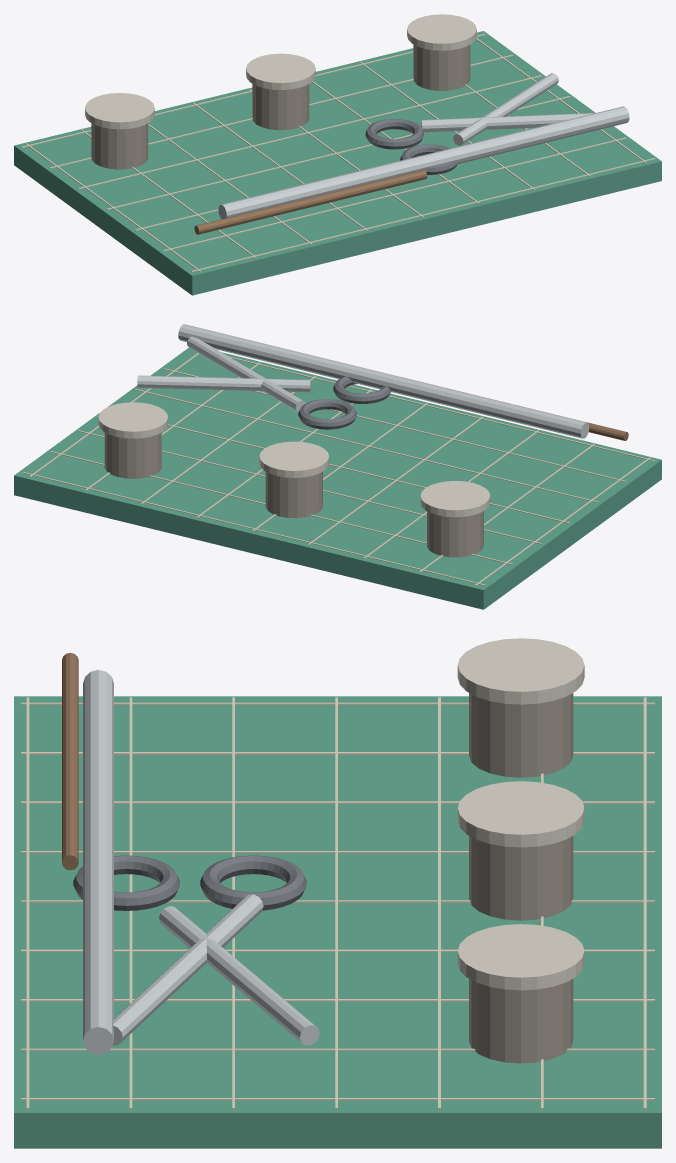
3 renders of one model, top to bottom at view 1: azimuth 30°, elevation 25°; view 2: azimuth 150°, elevation 25°; view 3: azimuth 270°, elevation 25°, orthographic. The views are drawn at different scales.
Parts seen in each view (by area): view 1: TH-017__000__Green cutting mat, TH-017__031__Stainless ruler, TH-017__030__Wood pencil, TH-017__023__Sewing thread reel, TH-017__017__Sewing thread reel, TH-017__020__Sewing thread reel, TH-017__024__Reel rim upper, TH-017__018__Reel rim upper, TH-017__021__Reel rim upper, TH-017__026__Scissor blade A, TH-017__027__Scissor blade B, TH-017__028__Scissor loop (+8 smaller); view 2: TH-017__000__Green cutting mat, TH-017__031__Stainless ruler, TH-017__023__Sewing thread reel, TH-017__020__Sewing thread reel, TH-017__017__Sewing thread reel, TH-017__021__Reel rim upper, TH-017__024__Reel rim upper, TH-017__018__Reel rim upper, TH-017__027__Scissor blade B, TH-017__026__Scissor blade A, TH-017__028__Scissor loop, TH-017__012__Mat ruler grid cross (+9 smaller); view 3: TH-017__000__Green cutting mat, TH-017__031__Stainless ruler, TH-017__020__Sewing thread reel, TH-017__017__Sewing thread reel, TH-017__023__Sewing thread reel, TH-017__018__Reel rim upper, TH-017__024__Reel rim upper, TH-017__021__Reel rim upper, TH-017__026__Scissor blade A, TH-017__027__Scissor blade B, TH-017__030__Wood pencil, TH-017__028__Scissor loop (+16 smaller).
Boxes of the visible parts, box(x1,y1,x2,y2) form: TH-017__000__Green cutting mat: box(14, 31, 661, 295); TH-017__031__Stainless ruler: box(218, 106, 629, 219); TH-017__030__Wood pencil: box(194, 170, 427, 234); TH-017__023__Sewing thread reel: box(413, 44, 470, 90); TH-017__017__Sewing thread reel: box(91, 123, 148, 169); TH-017__020__Sewing thread reel: box(252, 84, 309, 130); TH-017__024__Reel rim upper: box(407, 14, 476, 50); TH-017__018__Reel rim upper: box(85, 93, 154, 129); TH-017__021__Reel rim upper: box(246, 53, 315, 89); TH-017__026__Scissor blade A: box(421, 113, 594, 132); TH-017__027__Scissor blade B: box(453, 73, 558, 145); TH-017__028__Scissor loop: box(365, 119, 423, 149); TH-017__000__Green cutting mat: box(14, 347, 661, 609); TH-017__031__Stainless ruler: box(178, 324, 589, 438); TH-017__023__Sewing thread reel: box(104, 432, 161, 478); TH-017__020__Sewing thread reel: box(265, 471, 322, 518); TH-017__017__Sewing thread reel: box(427, 511, 483, 557); TH-017__021__Reel rim upper: box(259, 441, 329, 477); TH-017__024__Reel rim upper: box(98, 402, 167, 438); TH-017__018__Reel rim upper: box(420, 481, 490, 517); TH-017__027__Scissor blade B: box(137, 375, 310, 392); TH-017__026__Scissor blade A: box(187, 336, 305, 411); TH-017__028__Scissor loop: box(298, 399, 356, 429); TH-017__012__Mat ruler grid cross: box(134, 389, 598, 502); TH-017__000__Green cutting mat: box(14, 696, 661, 1148); TH-017__031__Stainless ruler: box(83, 670, 113, 1054); TH-017__020__Sewing thread reel: box(469, 836, 573, 920); TH-017__017__Sewing thread reel: box(469, 693, 573, 777); TH-017__023__Sewing thread reel: box(469, 978, 573, 1063); TH-017__018__Reel rim upper: box(457, 638, 584, 704); TH-017__024__Reel rim upper: box(457, 924, 584, 990); TH-017__021__Reel rim upper: box(457, 781, 584, 847); TH-017__026__Scissor blade A: box(112, 894, 263, 1045); TH-017__027__Scissor blade B: box(159, 906, 319, 1045); TH-017__030__Wood pencil: box(62, 652, 78, 870); TH-017__028__Scissor loop: box(200, 855, 306, 910).
Bounding box in the file's own units: 0.7 × 0.099 × 0.46.
